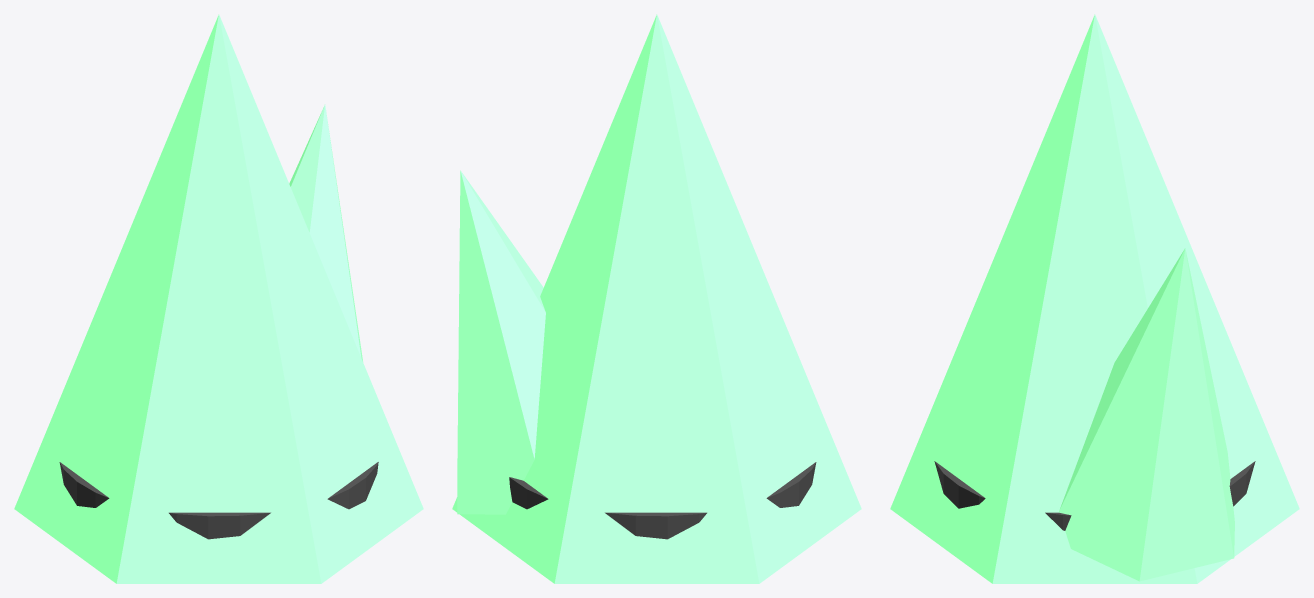
File: nutrient_crystal_green.glb
The picture shows the model from 3 angles, left to right: view 1: azimuth 30°, elevation 25°; view 2: azimuth 150°, elevation 25°; view 3: azimuth 270°, elevation 25°; orthographic projection.
Visible parts, largest first — view 1: Crystal_green, Cone, Cylinder; view 2: Crystal_green, Cone, Cylinder; view 3: Crystal_green, Cone, Cylinder.
Boxes of the visible parts, box(x1,y1,x2,y2) form: Crystal_green: box(14, 14, 423, 583); Cone: box(289, 104, 362, 361); Cylinder: box(59, 462, 378, 539); Crystal_green: box(452, 14, 861, 583); Cone: box(457, 170, 545, 514); Cylinder: box(509, 462, 816, 539); Crystal_green: box(890, 14, 1299, 583); Cone: box(1059, 248, 1234, 581); Cylinder: box(934, 461, 1255, 530).
Bounding box in the file's own units: 0.2798 × 0.4 × 0.3.
